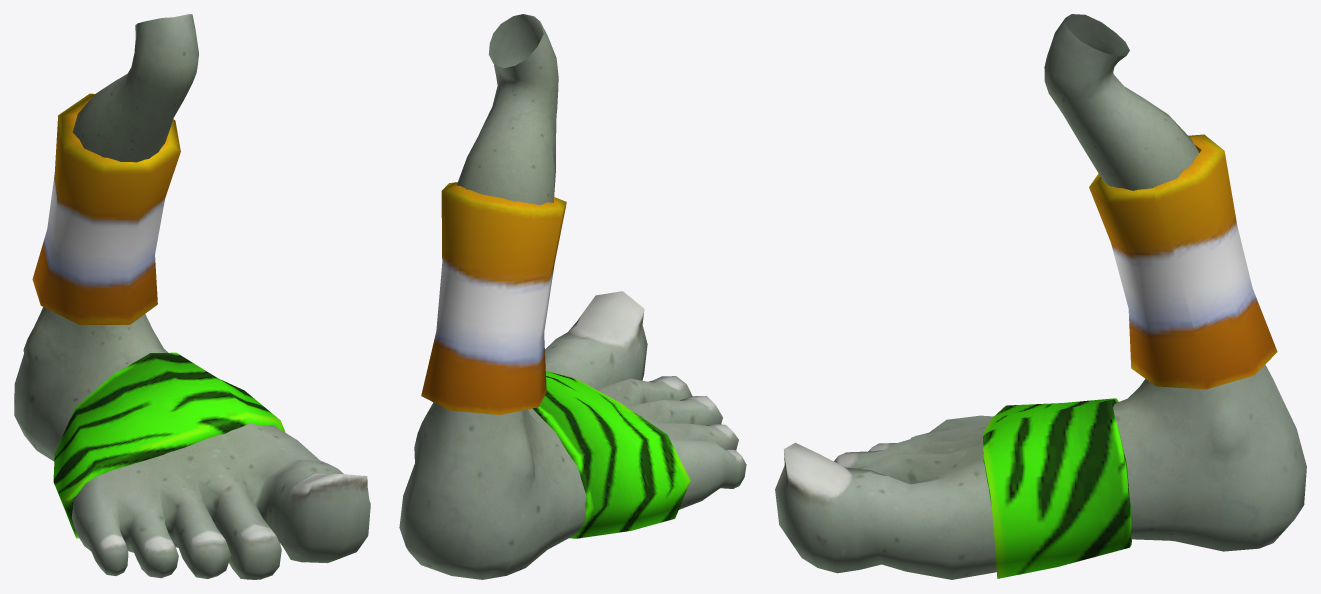
The model's file is right_leg-1_zombie_party_brainz.blend.obj.
3 renders of one model, left to right at view 1: azimuth 30°, elevation 25°; view 2: azimuth 150°, elevation 25°; view 3: azimuth 270°, elevation 25°, orthographic. The views are drawn at different scales.
Parts seen in each view (by area): view 1: right_leg-1_zombie_party_brainz.blend_Costume_NewWave_Clothing_M; view 2: right_leg-1_zombie_party_brainz.blend_Costume_NewWave_Clothing_M; view 3: right_leg-1_zombie_party_brainz.blend_Costume_NewWave_Clothing_M.
Part boxes in pixels (bbox=[...]): right_leg-1_zombie_party_brainz.blend_Costume_NewWave_Clothing_M: bbox=[14, 14, 370, 579]; right_leg-1_zombie_party_brainz.blend_Costume_NewWave_Clothing_M: bbox=[399, 14, 746, 579]; right_leg-1_zombie_party_brainz.blend_Costume_NewWave_Clothing_M: bbox=[775, 14, 1306, 579].
Bounding box in the file's own units: 0.3383 × 0.6919 × 0.6251.
2 materials, 2 textured.
